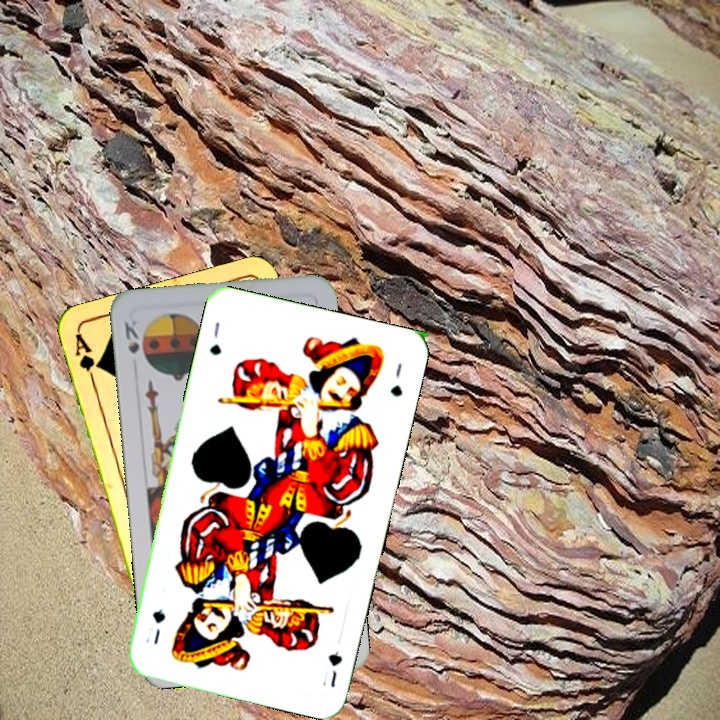GA: (71, 329, 103, 388)
GU: (324, 646, 345, 690), (205, 318, 224, 358)
SK: (120, 314, 142, 356)
